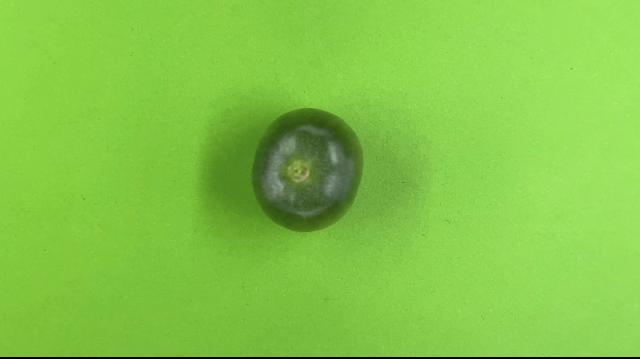Fruit Maturation: (247, 104, 368, 235)
